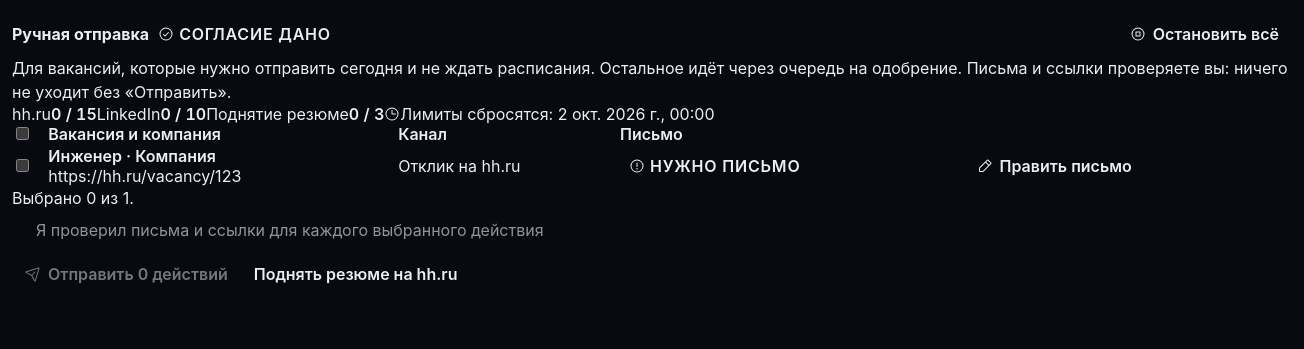
Test: CandidateActionPanel › toggles the kill switch and reflects the saved state
Click the button "Остановить всё": coordinates (1204, 34) [1117,12,1292,56]
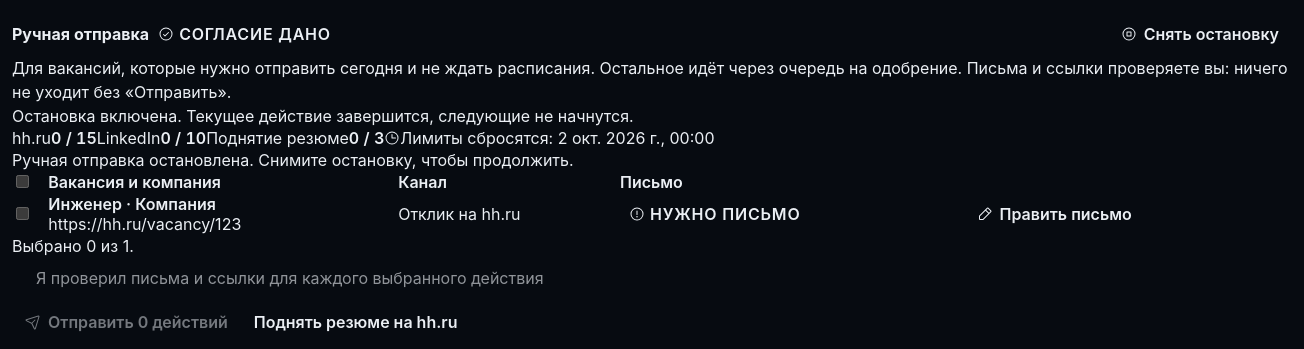
Now the text "Снять остановку" is shown, box [1108,12,1292,56]
